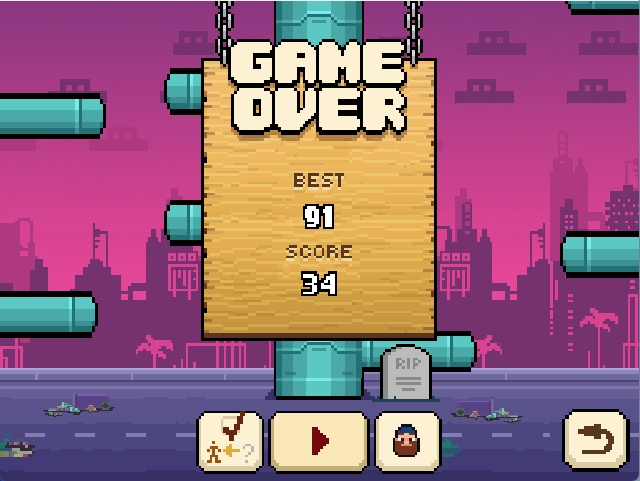game_over: (223, 33, 410, 146)
